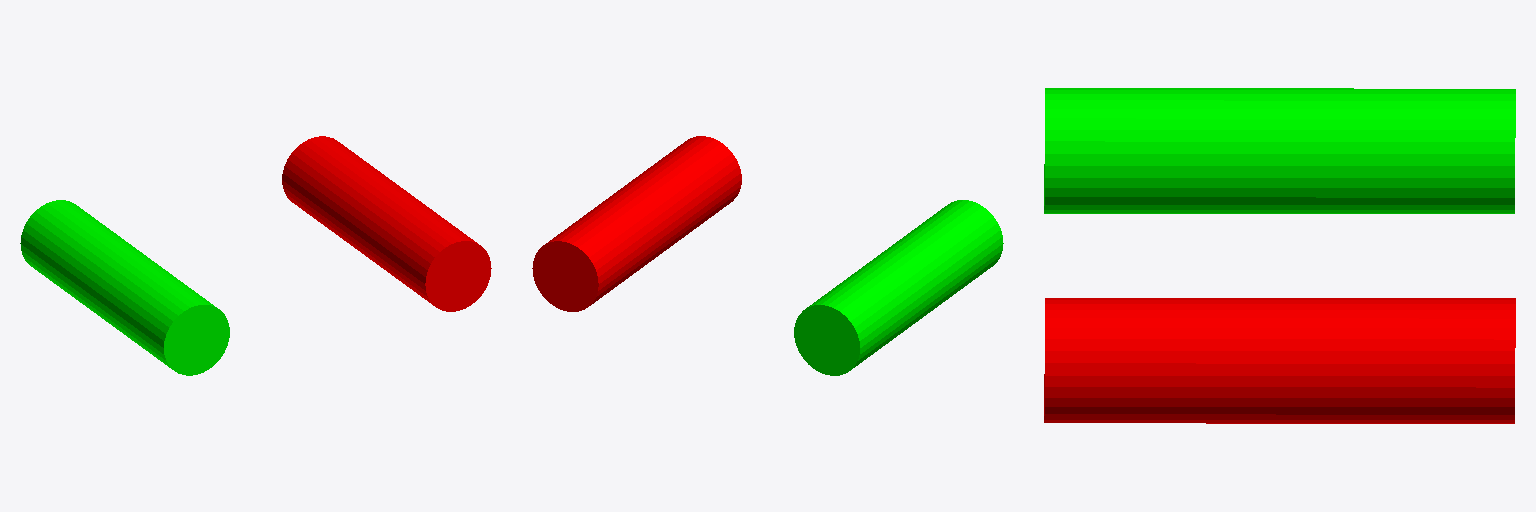
URDF robot description (antworker):
<?xml version="1.0"?>
<robot name="antworker">
        
  <!-- Colors -->
  <material name="red">
      <color rgba="1.0 0.0 0.0 1"/>
  </material>

  <material name="green">
      <color rgba="0.0 1.0 0.0 1"/>
  </material>

  <material name="blue">
      <color rgba="0.0 0.0 1.0 1"/>
  </material>

  <material name="yellow">
      <color rgba="1.0 1.0 0.0 1"/>
  </material>

  <material name="black">
      <color rgba="0.0 0.0 0.0 1"/>
  </material>

  <material name="white">
      <color rgba="1.0 1.0 1.0 1"/>
  </material>

  <!-- Links and Joints -->
  <!-- ========================= -->

  <!-- Chassis -->
  <link name="base_link">
    <visual>
      <origin rpy="0 0 1.5707" xyz="0 0 0"/>
      <geometry>
        <mesh filename="package://antworker_description/description/base/meshes/antworker_chassis.dae" scale="1.0 1.0 1.0"/>
      </geometry>
      <material name="white"/>
    </visual>

    <collision>
      <origin rpy="0 0 1.5707" xyz="0 0 0"/>
      <geometry>
        <mesh filename="package://antworker_description/description/base/meshes/antworker_chassis.dae" scale="1.0 1.0 1.0"/>
      </geometry>
    </collision>

    <inertial>
      <mass value="10"/>
      <inertia ixx="0.62216" ixy="0"        ixz="0" 
                             iyy="0.95216"  iyz="0" 
                                            izz="1.37016"/>
    </inertial>
  </link>



  <!-- Front Wheel -->
  <link name="front_wheel_link">      
    <visual>
      <origin rpy="0 0 0" xyz="0 0 0"/>
      <geometry>
        <cylinder length="0.75" radius="0.1"/>
      </geometry>
      <material name="red"/>
    </visual>

    <collision>
      <origin rpy="0 0 0" xyz="0 0 0"/>
      <geometry>
        <cylinder length="0.75" radius="0.1"/>
      </geometry>
    </collision>

    <inertial>
    <mass value="10"/>
    <inertia ixx="0.09875"  ixy="0"       ixz="0" 
                            iyy="0.09875" iyz="0" 
                                          izz="0.01"/>
    </inertial>
  </link>

  <joint name="front_wheel_joint" type="continuous">
    <parent link="base_link"/>
    <child link="front_wheel_link"/>
    <origin rpy="1.57 0 0" xyz="0.395 0 -0.420"/>
    <axis rpy="0 0 0" xyz="0 0 1"/>
    <limit effort="10" velocity="2"/>
    <dynamics damping="0.01" friction="0.01"/>
  </joint>

  <link name="rear_wheel_link">      
    <visual>
      <origin rpy="0 0 0" xyz="0 0 0"/>
      <geometry>
        <cylinder length="0.75" radius="0.1"/>
      </geometry>
      <material name="green"/>
    </visual>

    <collision>
      <origin rpy="0 0 0" xyz="0 0 0"/>
      <geometry>
        <cylinder length="0.75" radius="0.1"/>
      </geometry>
    </collision>

    <inertial>
    <mass value="10"/>
    <inertia ixx="0.09875"  ixy="0"       ixz="0" 
                            iyy="0.09875" iyz="0" 
                                          izz="0.01"/>
    </inertial>
  </link>

  <joint name="rear_wheel_joint" type="continuous">
    <parent link="base_link"/>
    <child link="rear_wheel_link"/>
    <origin rpy="1.57 0 0" xyz="-0.395 0 -0.420"/>
    <axis rpy="0 0 0" xyz="0 0 1"/>
    <limit effort="10" velocity="2"/>
    <dynamics damping="0.01" friction="0.01"/>
  </joint>



  <link name="arm_base_link">
    <inertial>
      <origin xyz="-0.000648 -0.000166 0.084487" rpy="0 0 0" />
      <mass value="1.697" />
      <inertia ixx="0.004622" ixy="9E-06" ixz="6E-05" iyy="0.004495" iyz="9E-06" izz="0.002079" />
    </inertial>
    <visual>
      <origin xyz="0 0 0" rpy="0 0 0" />
      <geometry>
        <mesh filename="package://antworker_description/description/arm/meshes/base_link.STL" />
      </geometry>
      <material name="">
        <color rgba="0.75294 0.75294 0.75294 1" />
      </material>
    </visual>
    <collision>
      <origin xyz="0 0 0" rpy="0 0 0" />
      <geometry>
        <mesh filename="package://antworker_description/description/arm/meshes/base_link.STL" />
      </geometry>
    </collision>
  </link>

  <joint name="arm_base_link_joint" type="fixed">
    <origin rpy="0 0 -1.57" xyz="-0.33 0.01 0.13" />
    <parent link="base_link" />
    <child link="arm_base_link" />
  </joint>

  <link name="shoulder_link">
    <inertial>
      <origin xyz="-2.3E-05 -0.010364 -0.07336" rpy="0 0 0" />
      <mass value="1.377" />
      <inertia ixx="0.00457" ixy="1E-06" ixz="2E-06" iyy="0.004831" iyz="0.000448" izz="0.001409" />
    </inertial>
    <visual>
      <origin xyz="0 0 0" rpy="0 0 0" />
      <geometry>
        <mesh filename="package://antworker_description/description/arm/meshes/shoulder_link.STL" />
      </geometry>
      <material name="">
        <color rgba="0.75294 0.75294 0.75294 1" />
      </material>
    </visual>
    <collision>
      <origin xyz="0 0 0" rpy="0 0 0" />
      <geometry>
        <mesh filename="package://antworker_description/description/arm/meshes/shoulder_link.STL" />
      </geometry>
    </collision>
  </link>

  <joint name="joint_1" type="continuous">
    <origin xyz="0 0 0.15643" rpy="-3.1416 0.0 0.0" />
    <parent link="arm_base_link" />
    <child link="shoulder_link" />
    <axis xyz="0 0 1" />
    <limit effort="39" velocity="1.3963" />
  </joint>

  

  <link name="bicep_link">
    <inertial>
      <origin xyz="3.5E-05 -0.208207 -0.01889" rpy="0 0 0" />
      <mass value="1.262" />
      <inertia ixx="0.046752" ixy="-9E-06" ixz="0" iyy="0.00085" iyz="-9.8E-05" izz="0.047188" />
    </inertial>
    <visual>
      <origin xyz="0 0 0" rpy="0 0 0" />
      <geometry>
        <mesh filename="package://antworker_description/description/arm/meshes/bicep_link.STL" />
      </geometry>
      <material name="">
        <color rgba="0.75294 0.75294 0.75294 1" />
      </material>
    </visual>
    <collision>
      <origin xyz="0 0 0" rpy="0 0 0" />
      <geometry>
        <mesh filename="package://antworker_description/description/arm/meshes/bicep_link.STL" />
      </geometry>
    </collision>
  </link>
  <joint name="joint_2" type="revolute">
    <origin xyz="0 0.005375 -0.12838" rpy="1.5708 0.0 0.0" />
    <parent link="shoulder_link" />
    <child link="bicep_link" />
    <axis xyz="0 0 1" />
    <limit lower="-2.24" upper="2.24" effort="39" velocity="1.3963" />
  </joint>
  <link name="forearm_link">
    <inertial>
      <origin xyz="1.8E-05 0.076168 -0.01397" rpy="0 0 0" />
      <mass value="0.93" />
      <inertia ixx="0.008292" ixy="-1E-06" ixz="0" iyy="0.000628" iyz="0.000432" izz="0.008464" />
    </inertial>
    <visual>
      <origin xyz="0 0 0" rpy="0 0 0" />
      <geometry>
        <mesh filename="package://antworker_description/description/arm/meshes/forearm_link.STL" />
      </geometry>
      <material name="">
        <color rgba="0.75294 0.75294 0.75294 1" />
      </material>
    </visual>
    <collision>
      <origin xyz="0 0 0" rpy="0 0 0" />
      <geometry>
        <mesh filename="package://antworker_description/description/arm/meshes/forearm_link.STL" />
      </geometry>
    </collision>
  </link>
  <joint name="joint_3" type="revolute">
    <origin xyz="0 -0.41 0" rpy="3.1416 0 0" />
    <parent link="bicep_link" />
    <child link="forearm_link" />
    <axis xyz="0 0 1" />
    <limit lower="-2.57" upper="2.57" effort="39" velocity="1.3963" />
  </joint>
  <link name="spherical_wrist_1_link">
    <inertial>
      <origin xyz="-1E-06 0.008486 -0.062937" rpy="0 0 0" />
      <mass value="0.6781" />
      <inertia ixx="0.001645" ixy="0" ixz="0" iyy="0.001666" iyz="-0.000234" izz="0.000389" />
    </inertial>
    <visual>
      <origin xyz="0 0 0" rpy="0 0 0" />
      <geometry>
        <mesh filename="package://antworker_description/description/arm/meshes/spherical_wrist_1_link.STL" />
      </geometry>
      <material name="">
        <color rgba="0.75294 0.75294 0.75294 1" />
      </material>
    </visual>
    <collision>
      <origin xyz="0 0 0" rpy="0 0 0" />
      <geometry>
        <mesh filename="package://antworker_description/description/arm/meshes/spherical_wrist_1_link.STL" />
      </geometry>
    </collision>
  </link>
  <joint name="joint_4" type="continuous">
    <origin xyz="0 0.20843 -0.006375" rpy="1.5708 0.0 0.0" />
    <parent link="forearm_link" />
    <child link="spherical_wrist_1_link" />
    <axis xyz="0 0 1" />
    <limit effort="9" velocity="1.2218" />
  </joint>
  <link name="spherical_wrist_2_link">
    <inertial>
      <origin xyz="-1E-06 0.046429 -0.008704" rpy="0 0 0" />
      <mass value="0.678" />
      <inertia ixx="0.001685" ixy="0" ixz="0" iyy="0.0004" iyz="0.000255" izz="0.001696" />
    </inertial>
    <visual>
      <origin xyz="0 0 0" rpy="0 0 0" />
      <geometry>
        <mesh filename="package://antworker_description/description/arm/meshes/spherical_wrist_2_link.STL" />
      </geometry>
      <material name="">
        <color rgba="0.75294 0.75294 0.75294 1" />
      </material>
    </visual>
    <collision>
      <origin xyz="0 0 0" rpy="0 0 0" />
      <geometry>
        <mesh filename="package://antworker_description/description/arm/meshes/spherical_wrist_2_link.STL" />
      </geometry>
    </collision>
  </link>
  <joint name="joint_5" type="revolute">
    <origin xyz="0 -0.00017505 -0.10593" rpy="-1.5708 0.0 0.0" />
    <parent link="spherical_wrist_1_link" />
    <child link="spherical_wrist_2_link" />
    <axis xyz="0 0 1" />
    <limit lower="-2.09" upper="2.09" effort="9" velocity="1.2218" />
  </joint>
  <link name="bracelet_link">
    <inertial>
      <origin xyz="0.000281 0.011402 -0.029798" rpy="0 0 0" />
      <mass value="0.5" />
      <inertia ixx="0.000587" ixy="3E-06" ixz="3E-06" iyy="0.000369" iyz="-0.000118" izz="0.000609" />
    </inertial>
    <visual>
      <origin xyz="0 0 0" rpy="0 0 0" />
      <geometry>
        <mesh filename="package://antworker_description/description/arm/meshes/bracelet_with_vision_link.STL" />
      </geometry>
      <material name="">
        <color rgba="0.75294 0.75294 0.75294 1" />
      </material>
    </visual>
    <collision>
      <origin xyz="0 0 0" rpy="0 0 0" />
      <geometry>
        <mesh filename="package://antworker_description/description/arm/meshes/bracelet_with_vision_link.STL" />
      </geometry>
    </collision>
  </link>
  <joint name="joint_6" type="continuous">
    <origin xyz="0 0.10593 -0.00017505" rpy="1.5708 0.0 0.0" />
    <parent link="spherical_wrist_2_link" />
    <child link="bracelet_link" />
    <axis xyz="0 0 1" />
    <limit effort="9" velocity="1.2218" />
  </joint>
  <link name="end_effector_link">
    <inertial>
      <origin xyz="0 0 0" rpy="0 0 0" />
      <mass value="0" />
      <inertia ixx="0" ixy="0" ixz="0" iyy="0" iyz="0" izz="0" />
    </inertial>
  </link>
  <joint name="end_effector" type="fixed">
    <origin xyz="0 0 -0.061525" rpy="3.1416 0 -3.1416" />
    <parent link="bracelet_link" />
    <child link="end_effector_link" />
    <axis xyz="0 0 0" />
  </joint>
  <link name="camera_link" />
  <joint name="camera_module" type="fixed">
    <origin xyz="0 0.05639 -0.00305" rpy="3.14159265358979 3.14159265358979 0" />
    <parent link="end_effector_link" />
    <child  link="camera_link" />
  </joint>
  <link name="camera_depth_frame" />
  <joint name="depth_module" type="fixed">
    <origin xyz="0.0275 0.066 -0.00305" rpy="3.14159265358979 3.14159265358979 0" />
    <parent link="end_effector_link" />
    <child  link="camera_depth_frame" />
  </joint>
  <link name="camera_color_frame" />
  <joint name="color_module" type="fixed">
    <origin xyz="0 0.05639 -0.00305" rpy="3.14159265358979 3.14159265358979 0" />
    <parent link="end_effector_link" />
    <child  link="camera_color_frame" />
  </joint>


</robot>

--- What the picture shows (computed from the rendered views, not written in the file) ---
The picture shows the robot from 3 angles, left to right: view 1: azimuth 30°, elevation 25°; view 2: azimuth 150°, elevation 25°; view 3: azimuth 270°, elevation 25°; orthographic projection.
Robot: antworker — 14 links, 13 joints (3 revolute, 5 continuous, 5 fixed); root link base_link; default pose: every joint at zero.
Visible links, largest first — view 1: front_wheel_link, rear_wheel_link; view 2: front_wheel_link, rear_wheel_link; view 3: front_wheel_link, rear_wheel_link.
Boxes of the visible links, x1,y1,x2,y2 form: front_wheel_link: (282,136,491,311); rear_wheel_link: (20,200,229,375); front_wheel_link: (532,136,741,311); rear_wheel_link: (794,200,1003,375); front_wheel_link: (1044,298,1515,423); rear_wheel_link: (1044,88,1515,213).
Bounding box of the posed robot: 0.99 × 0.7502 × 0.2006 m (x, y, z).
0 mesh visuals loaded from 8 distinct referenced files (none loaded); not drawn: 8 (reference not matched to a file when rendering).